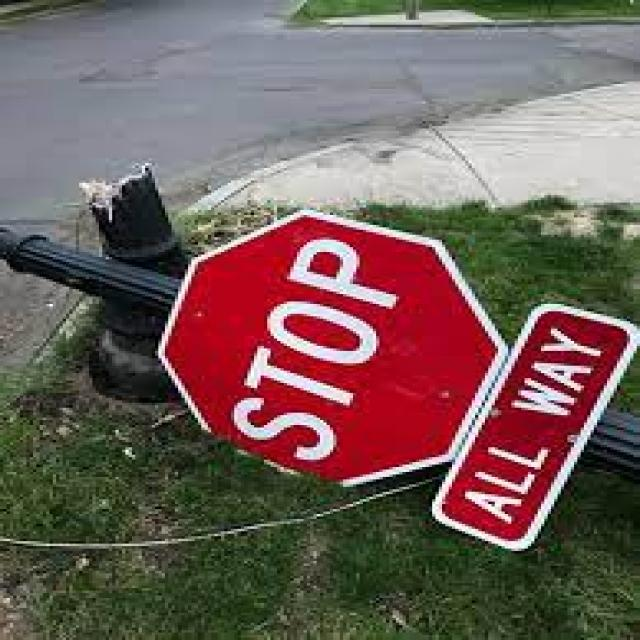stop-sign: (148, 216, 456, 481)
